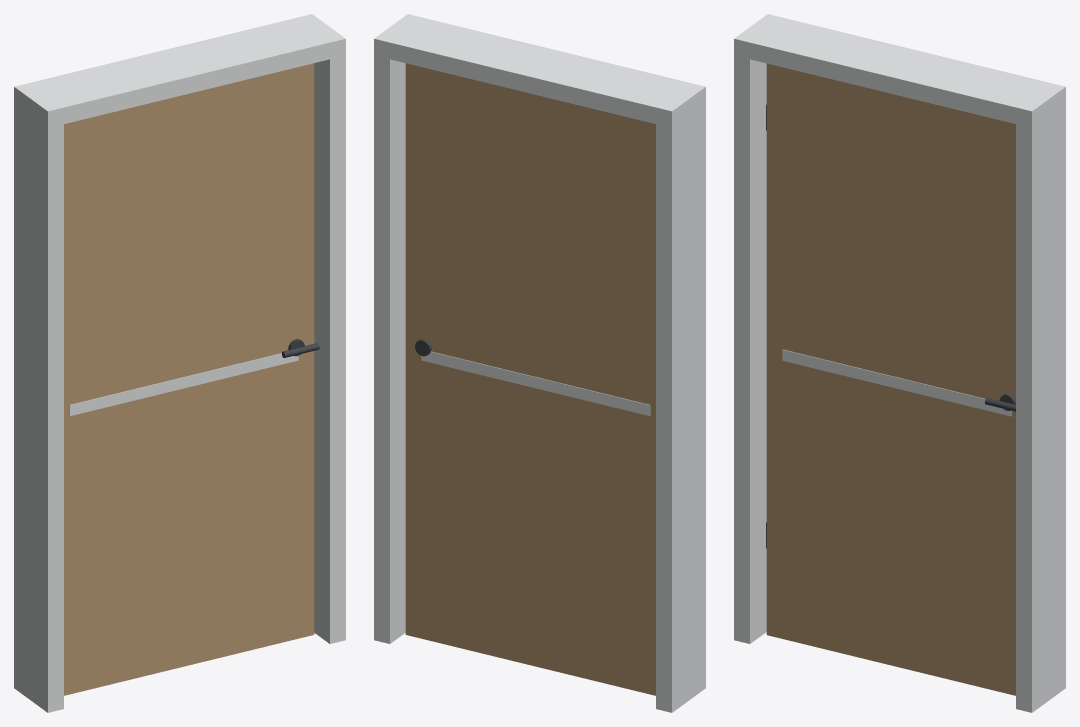
Rendered from door-single.glb.
3 renders of one model, left to right at view 1: azimuth 30°, elevation 25°; view 2: azimuth 150°, elevation 25°; view 3: azimuth 330°, elevation 25°, orthographic.
Parts seen in each view (by area): view 1: LEAF_PANEL, FRAME_JAMB_LEFT, FRAME_JAMB_RIGHT, FRAME_HEAD, LEAF_RAIL; view 2: LEAF_PANEL, FRAME_JAMB_LEFT, FRAME_JAMB_RIGHT, FRAME_HEAD, LEAF_RAIL; view 3: LEAF_PANEL, FRAME_JAMB_RIGHT, FRAME_JAMB_LEFT, FRAME_HEAD, LEAF_RAIL.
Boxes of the visible parts, bbox=[...] form: LEAF_PANEL: bbox=[64, 63, 314, 695]; FRAME_JAMB_LEFT: bbox=[14, 83, 63, 712]; FRAME_JAMB_RIGHT: bbox=[296, 14, 345, 643]; FRAME_HEAD: bbox=[14, 18, 345, 127]; LEAF_RAIL: bbox=[69, 353, 298, 416]; LEAF_PANEL: bbox=[405, 63, 655, 695]; FRAME_JAMB_LEFT: bbox=[656, 83, 705, 712]; FRAME_JAMB_RIGHT: bbox=[374, 14, 423, 643]; FRAME_HEAD: bbox=[374, 18, 705, 127]; LEAF_RAIL: bbox=[421, 351, 650, 416]; LEAF_PANEL: bbox=[766, 63, 1015, 695]; FRAME_JAMB_RIGHT: bbox=[1016, 83, 1065, 712]; FRAME_JAMB_LEFT: bbox=[734, 14, 783, 643]; FRAME_HEAD: bbox=[734, 18, 1065, 127]; LEAF_RAIL: bbox=[782, 349, 1011, 416].
Size of the model in its own units: 1.12 by 2.16 by 0.22.
